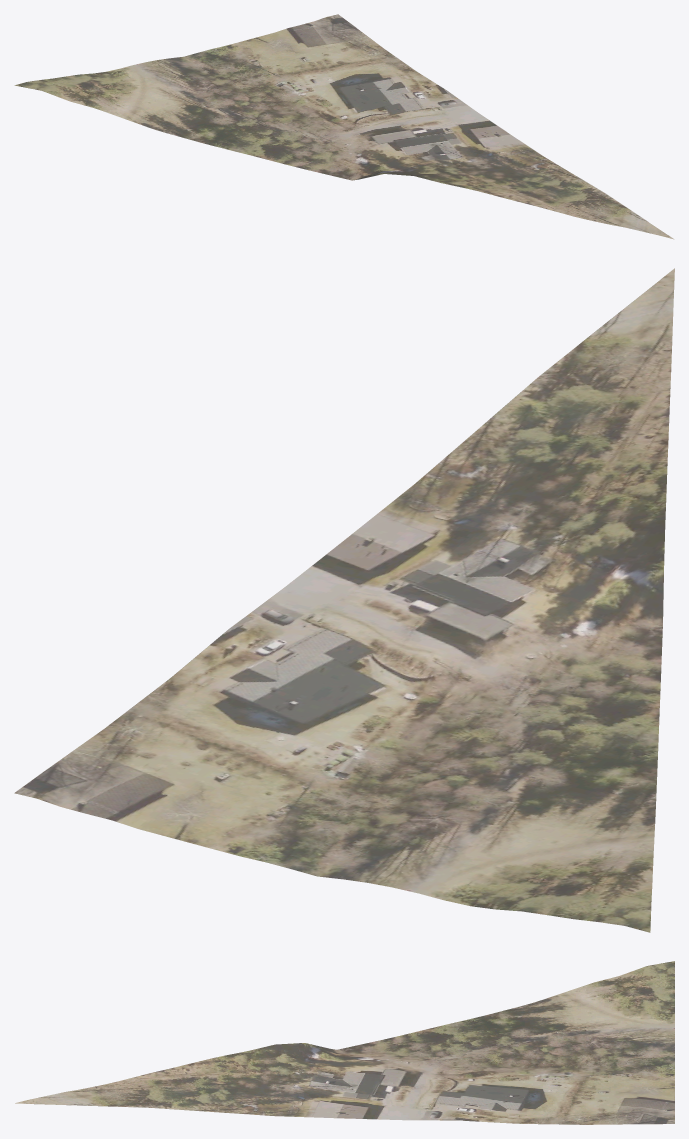
Rendered from CM_Terrain_24491687_6814264.fbx.
3 renders of one model, top to bottom at view 1: azimuth 30°, elevation 25°; view 2: azimuth 150°, elevation 25°; view 3: azimuth 270°, elevation 25°, orthographic. The views are drawn at different scales.
Visible parts, largest first — view 1: CM_Terrain_24491687_6814264_LOD0; view 2: CM_Terrain_24491687_6814264_LOD0; view 3: CM_Terrain_24491687_6814264_LOD0.
Boxes of the visible parts, x1,y1,x2,y2 form: CM_Terrain_24491687_6814264_LOD0: (14,14,674,239); CM_Terrain_24491687_6814264_LOD0: (14,268,674,932); CM_Terrain_24491687_6814264_LOD0: (15,961,674,1124).
Size of what is drawn, in the model's own units: 89.11 by 6.9 by 160.
